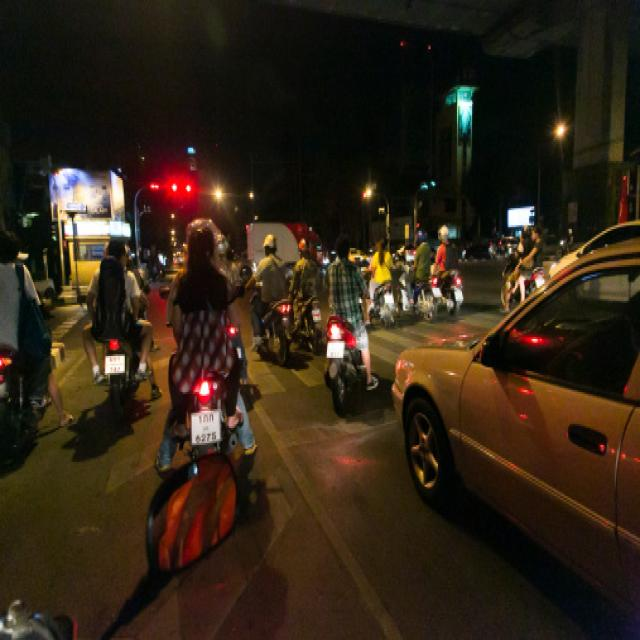Car: (432, 322, 640, 599)
Motorbike: (156, 206, 260, 588), (248, 225, 374, 402), (3, 235, 73, 480), (360, 238, 486, 323), (92, 230, 142, 416), (506, 220, 545, 303)
